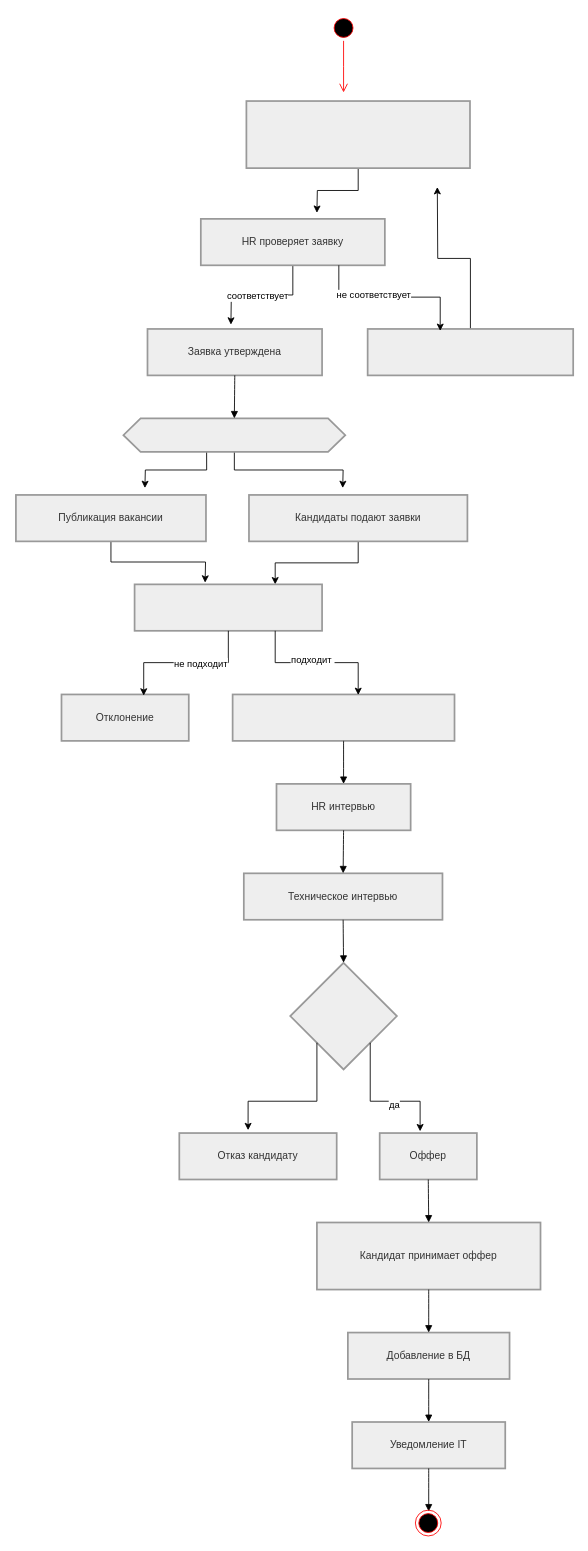
The diagram is 588 pixels wide and 1551 high, and some of its shapes have lost their labels. Here are the shapes that lost their labels. From the top down, the centre of each, then its label:
(x=357, y=134): Руководитель создает заявку
(x=470, y=352): Отправить на доработку
(x=234, y=434): Параллельные процессы
(x=227, y=607): HR проверяет анкеты
(x=343, y=717): Приглашение на интервью
(x=343, y=1015): Успешно?
